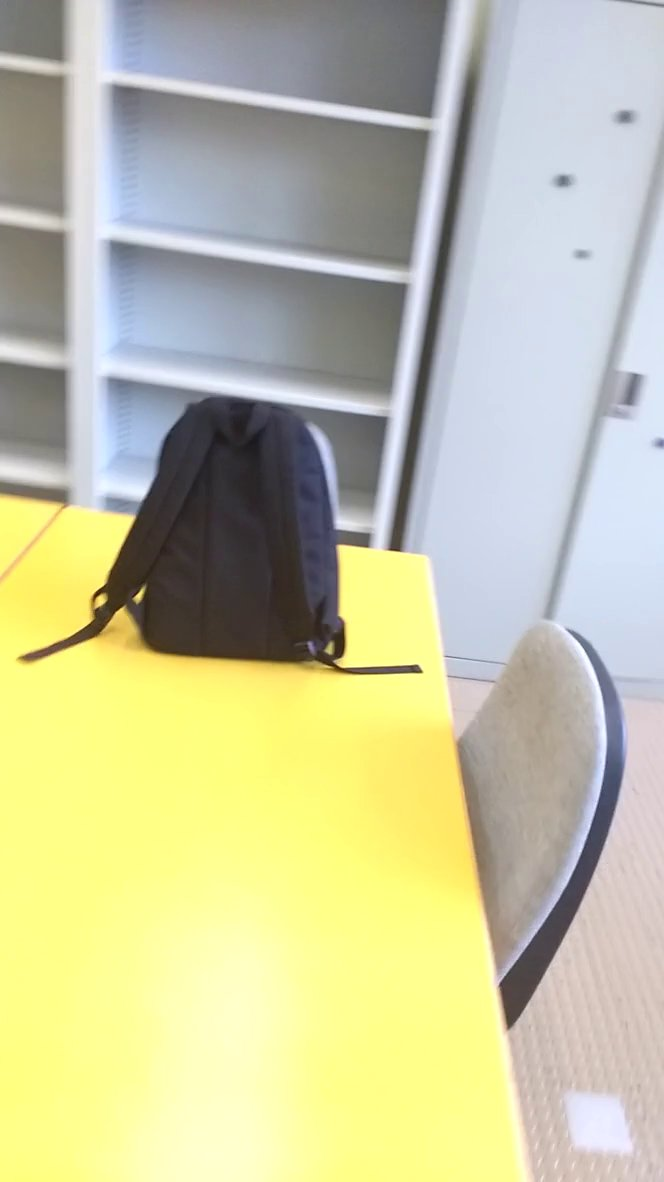bag: (13, 389, 430, 679)
chair: (441, 613, 643, 1067)
